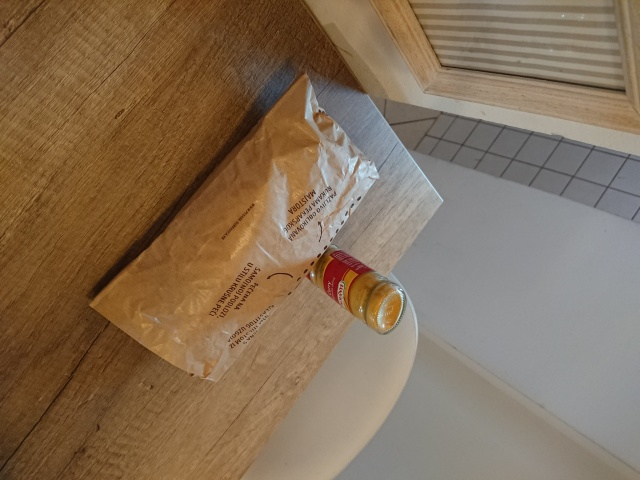Kotanyi Curry Spices Mix 70g: (296, 238, 409, 338)
